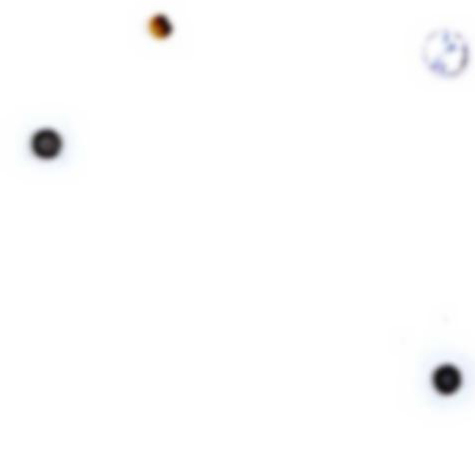abnormal: (404, 18, 471, 90)
cancer: (406, 339, 474, 417), (16, 107, 78, 173)
normal: (133, 6, 195, 52)
